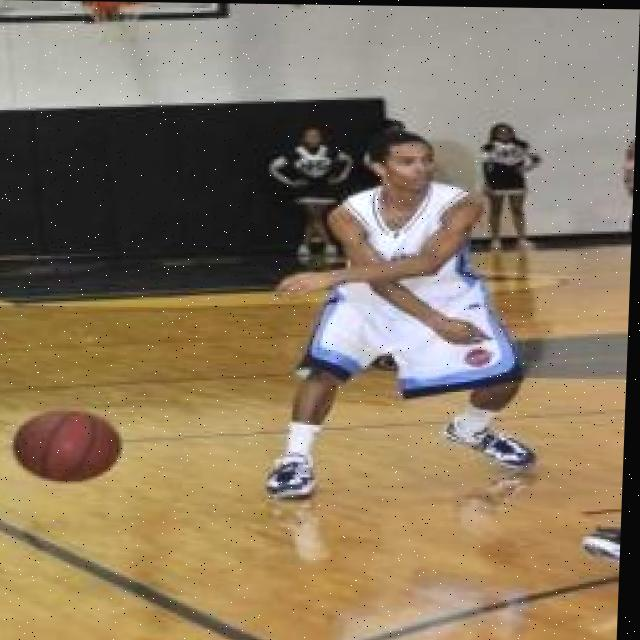basketball: (7, 403, 128, 485)
hoop: (79, 1, 151, 50)
